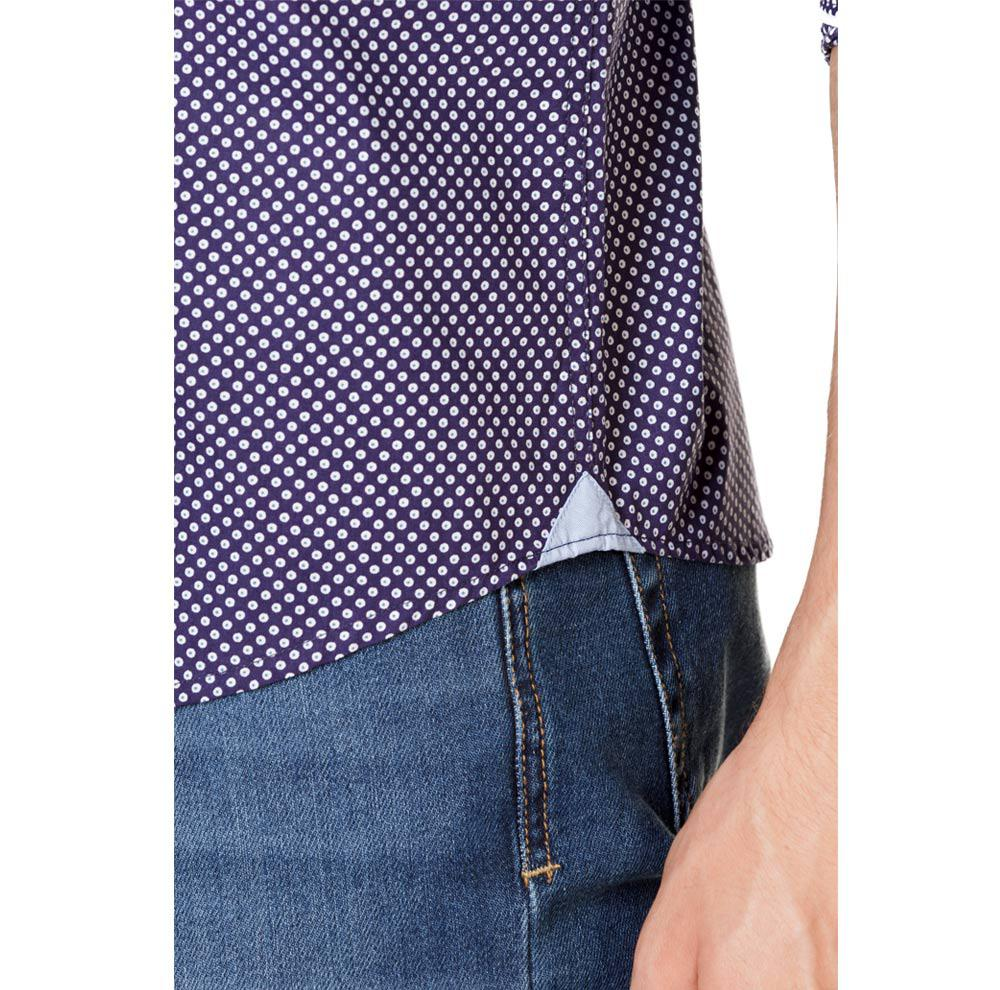teeshirt: (167, 1, 783, 619)
